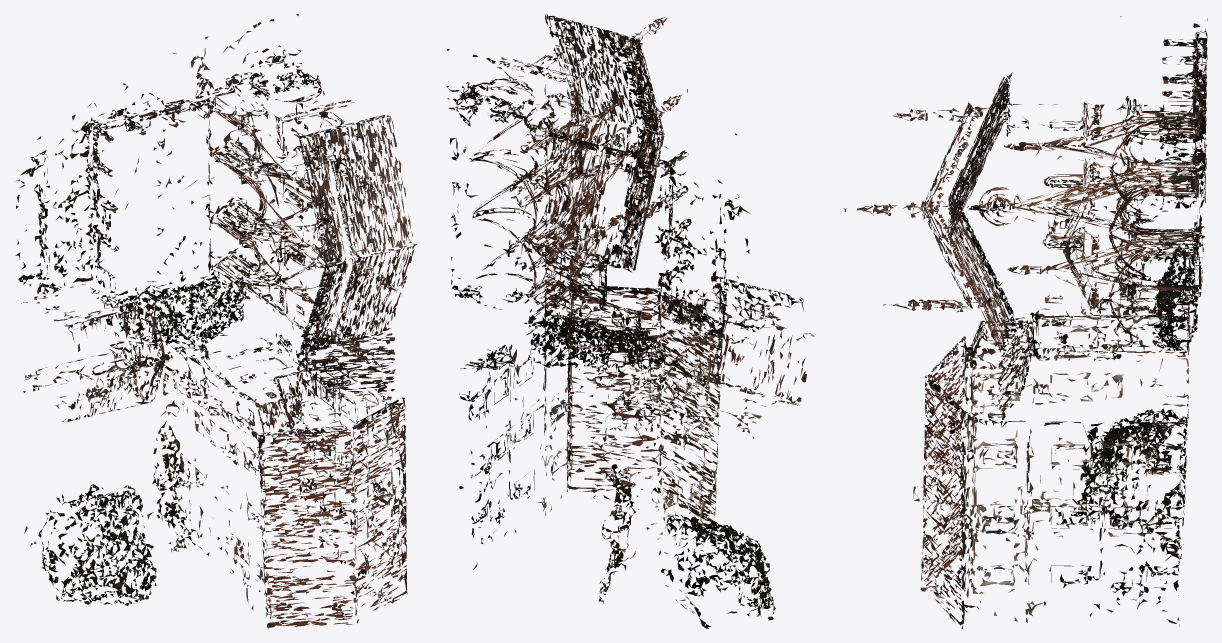
3 renders of one model, left to right at view 1: azimuth 30°, elevation 25°; view 2: azimuth 150°, elevation 25°; view 3: azimuth 270°, elevation 25°, orthographic. The views are drawn at different scales.
Size of the model in its own units: 25.17 by 41.6 by 25.05.
1 material, 1 textured.
